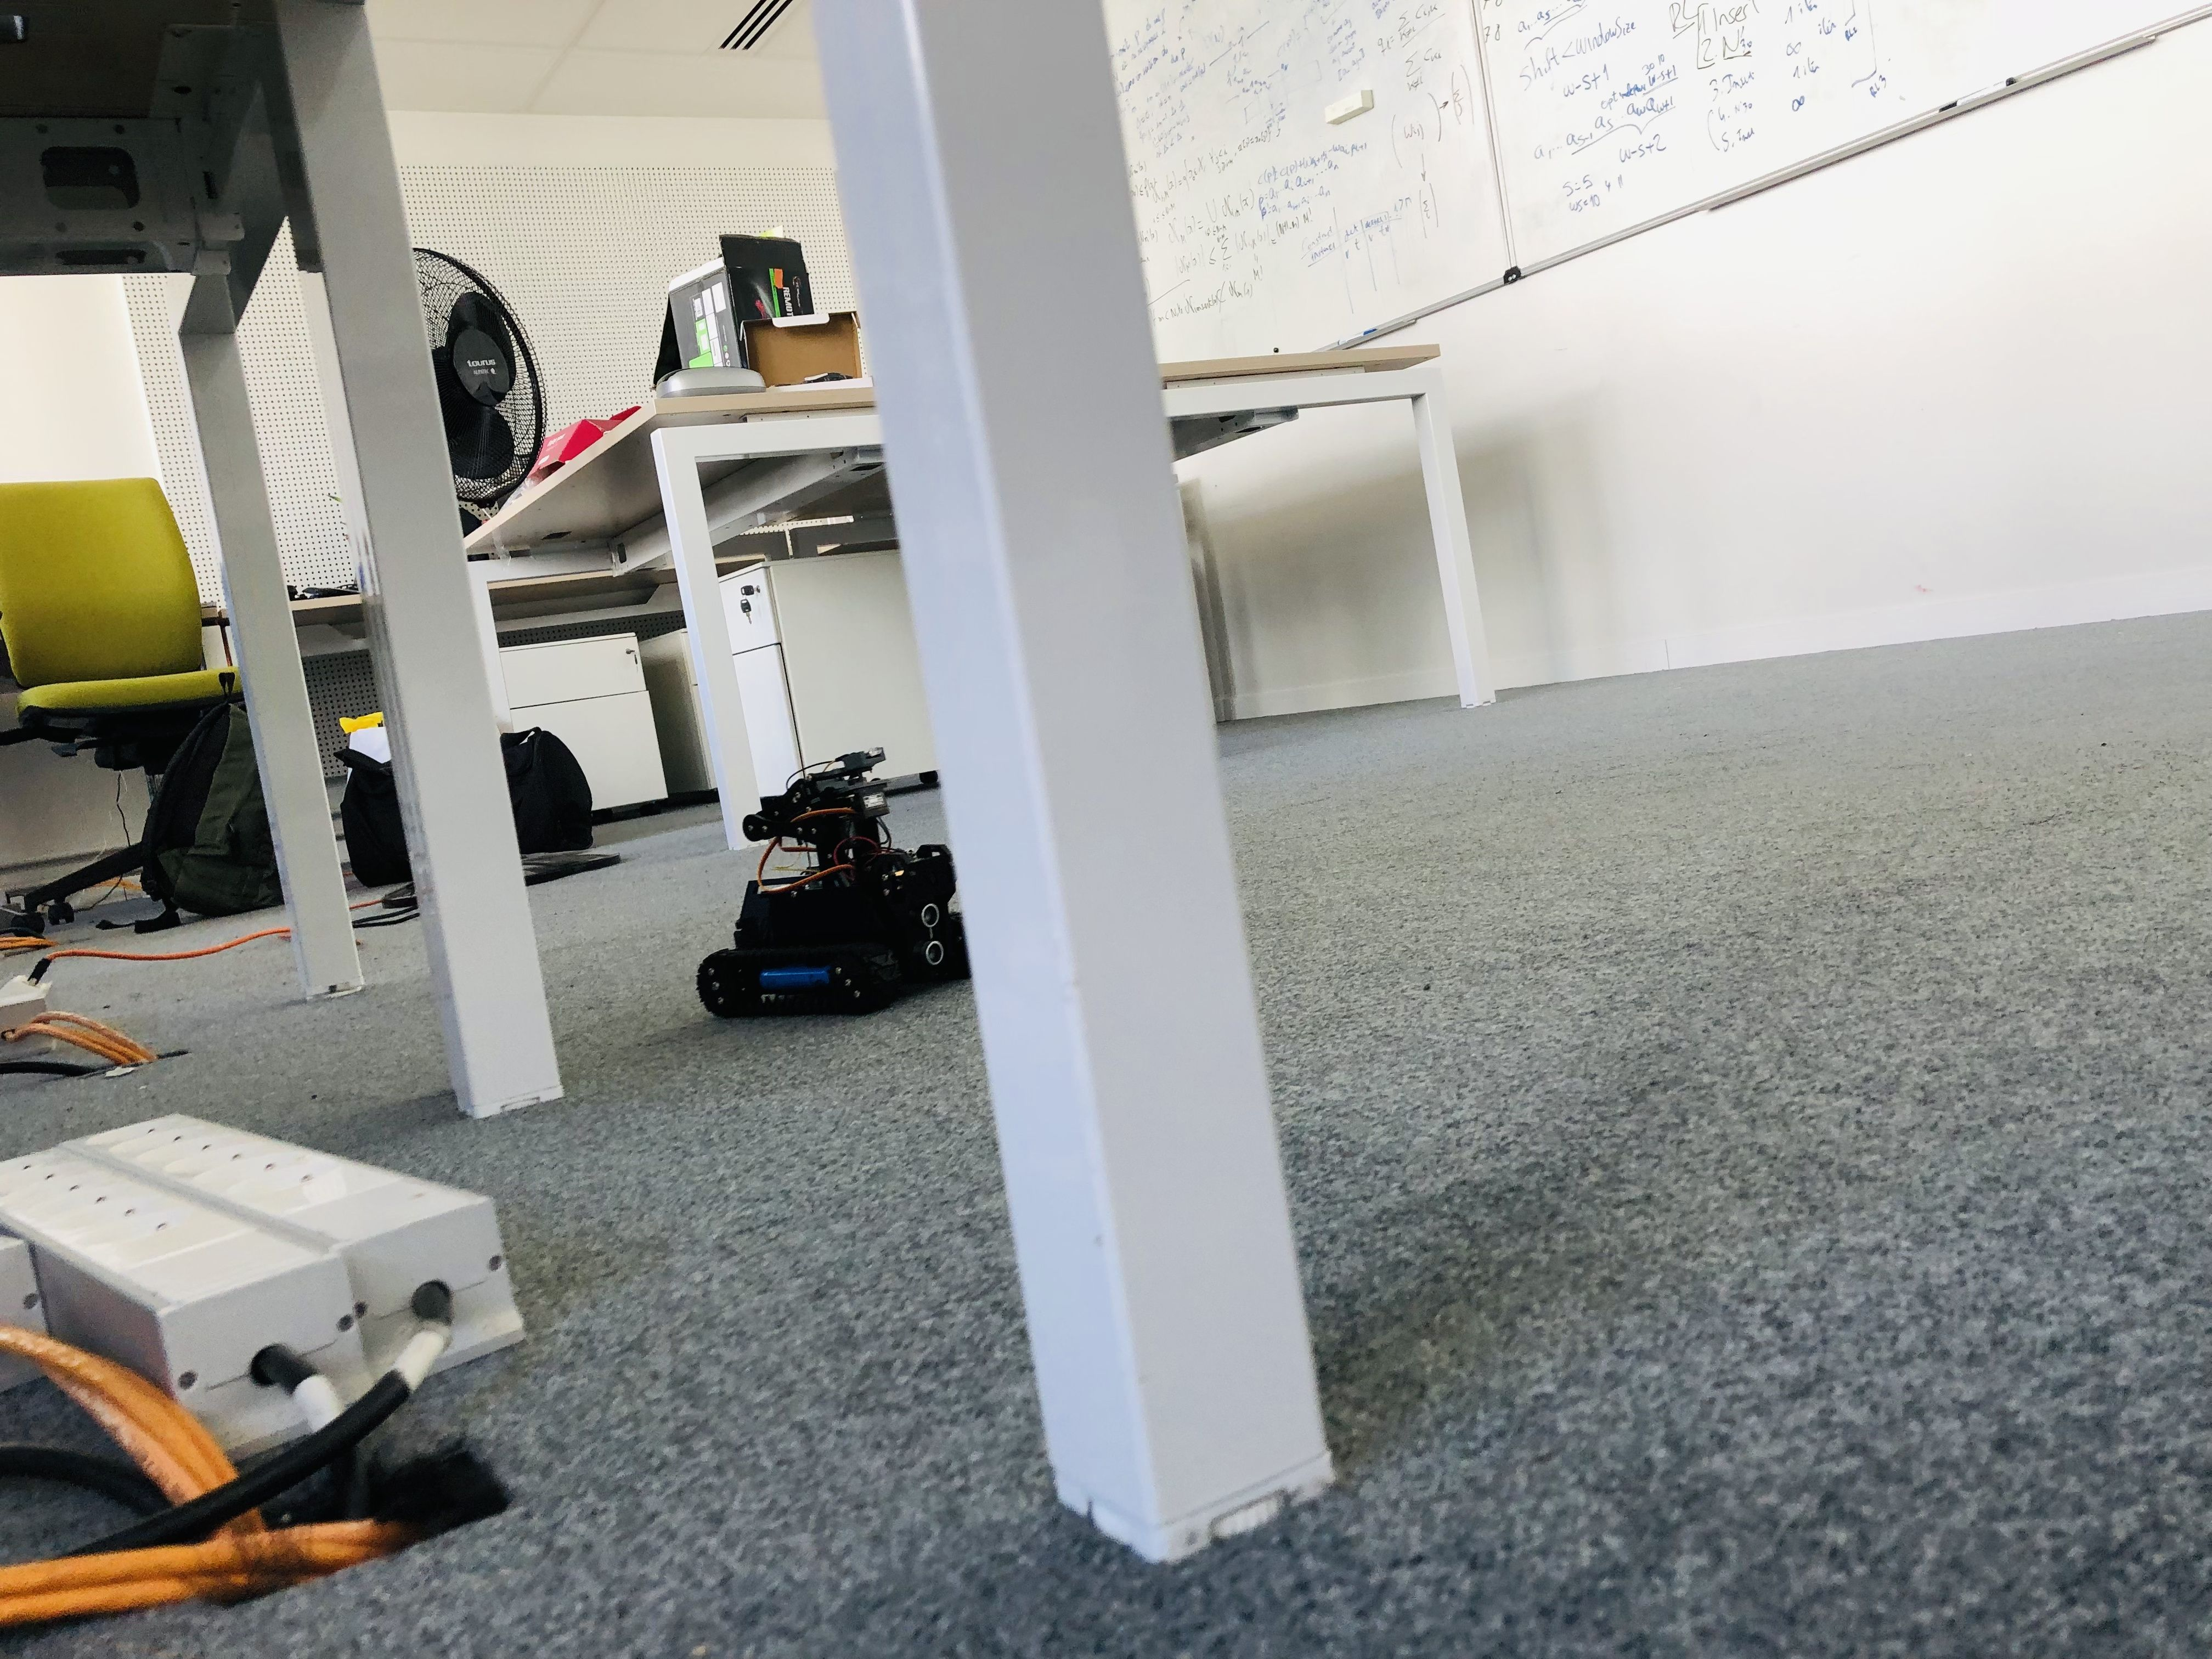rasptank: (691, 748, 977, 1023)
